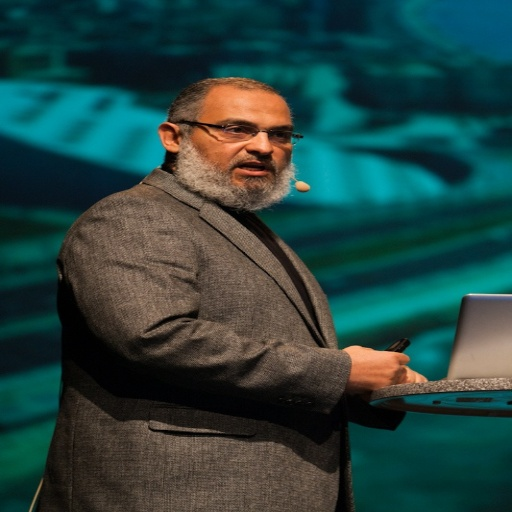hand: (348, 347, 418, 398), (402, 365, 421, 384)
